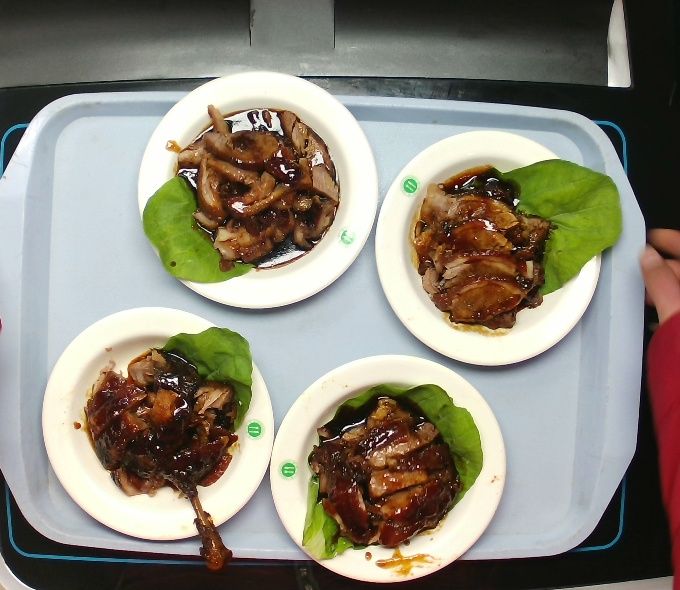wcq-MiZhiYa: (287, 375, 488, 567), (407, 159, 608, 342), (65, 330, 259, 517), (163, 102, 338, 285)
